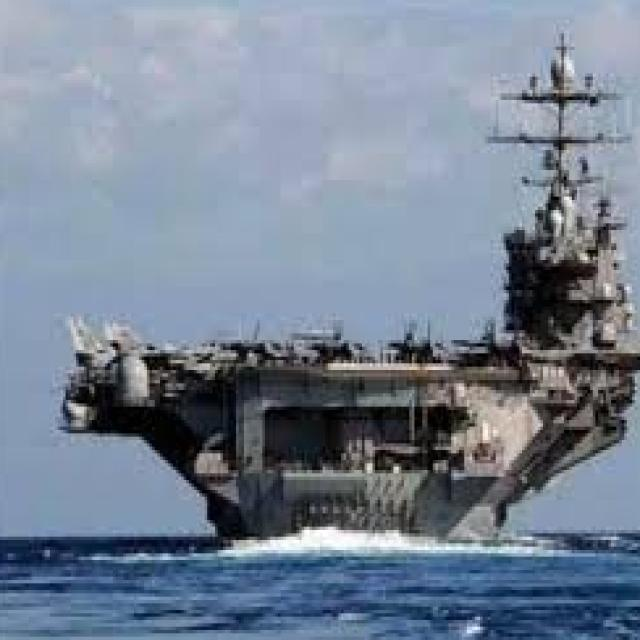navalvessels: (69, 66, 629, 568)
